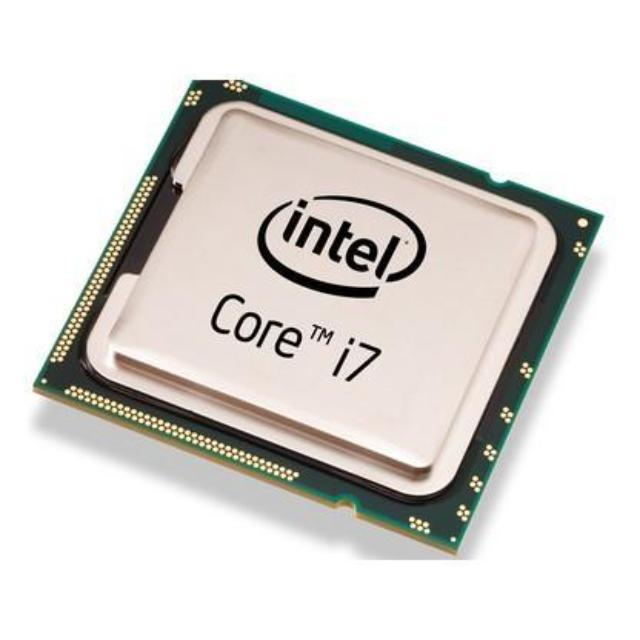CPU: (33, 77, 607, 555)
